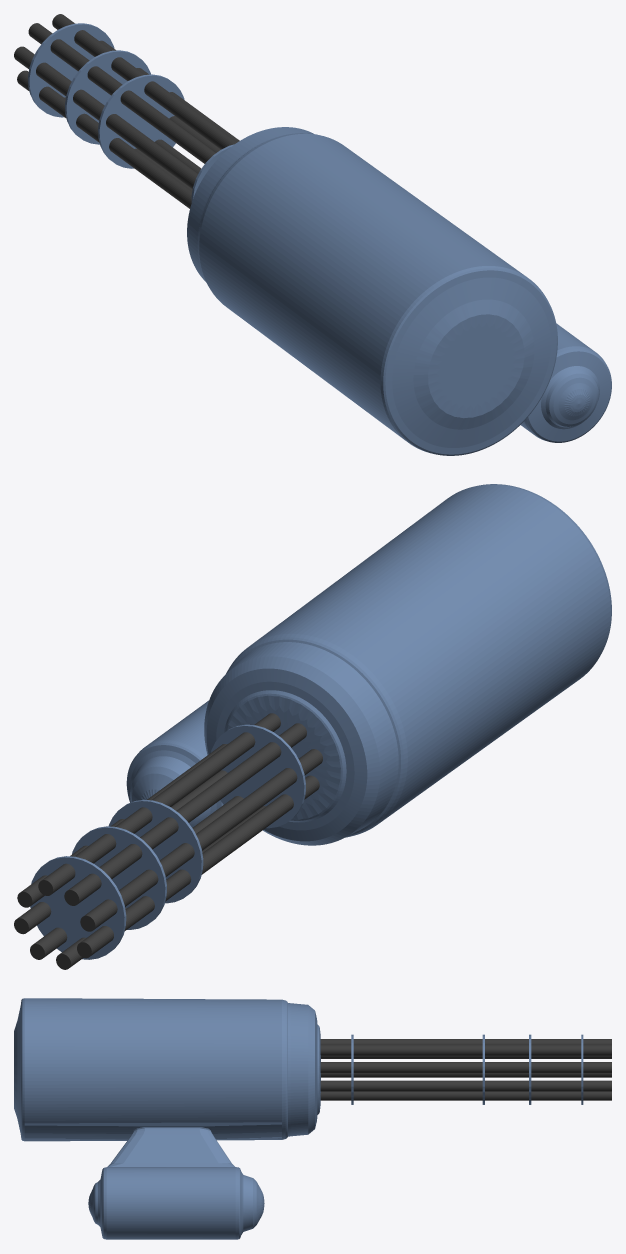
File: drone_gun.fbx
3 views of the same model, one above another, from view 1: azimuth 30°, elevation 25°; view 2: azimuth 150°, elevation 25°; view 3: azimuth 270°, elevation 25° (orthographic). The views are drawn at different scales.
Parts seen in each view (by area): view 1: drone_gun; view 2: drone_gun; view 3: drone_gun.
Part boxes in pixels (left/top/right/bottom): drone_gun: left=14, top=14, right=611, bottom=455; drone_gun: left=14, top=484, right=611, bottom=969; drone_gun: left=14, top=998, right=611, bottom=1239.
Size of the model in its own units: 91.23 by 76.57 by 233.
